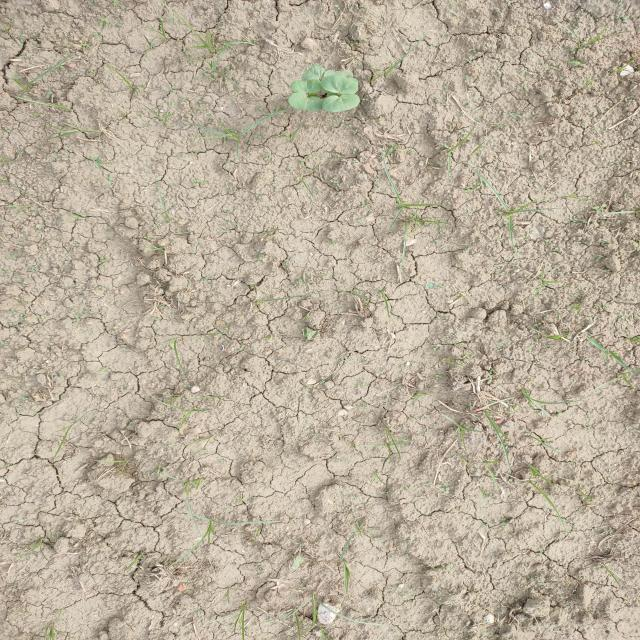seedling: (320, 75, 358, 94), (289, 92, 323, 111), (322, 95, 359, 112), (291, 79, 322, 93), (301, 65, 325, 81), (324, 70, 354, 79)
